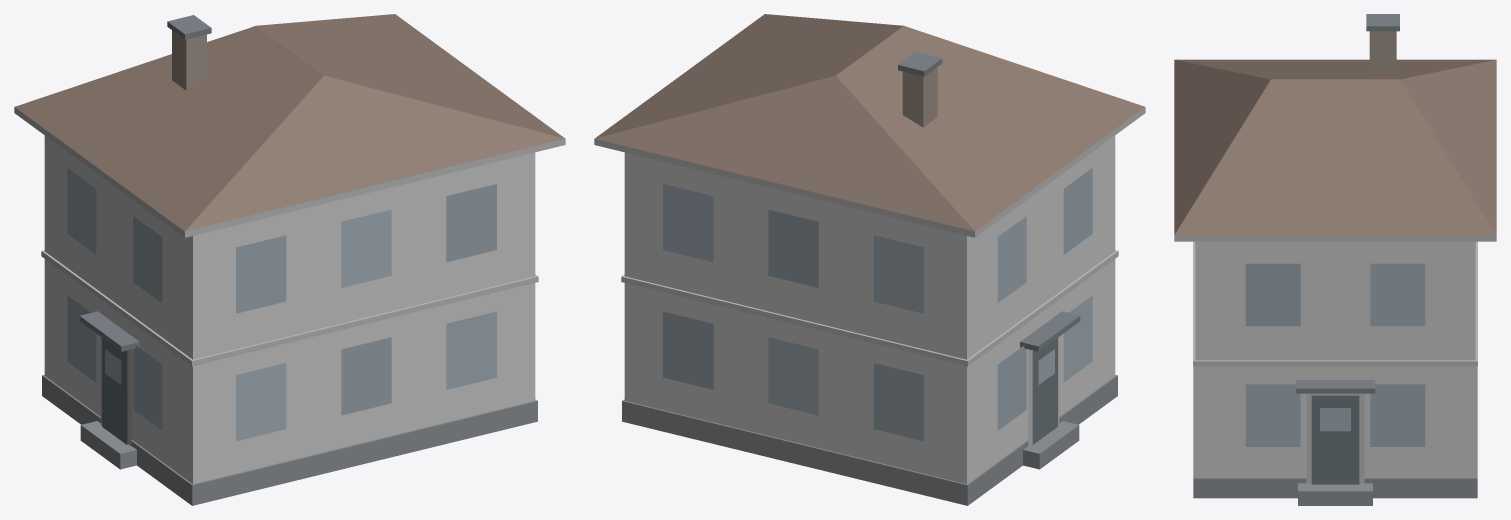
Rendered from home_5.glb.
3 renders of one model, left to right at view 1: azimuth 30°, elevation 25°; view 2: azimuth 150°, elevation 25°; view 3: azimuth 270°, elevation 25°, orthographic. The views are drawn at different scales.
Parts seen in each view (by area): view 1: home_5; view 2: home_5; view 3: home_5.
Part boxes in pixels (bbox=[...]): home_5: bbox=[14, 14, 565, 505]; home_5: bbox=[594, 14, 1145, 505]; home_5: bbox=[1174, 14, 1496, 505].
Size of the model in its own units: 8.9 by 8.58 by 6.9.
